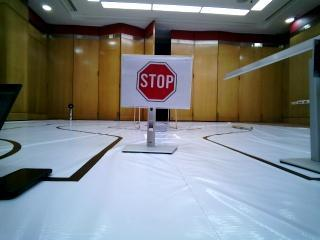stop: (129, 56, 191, 107)
